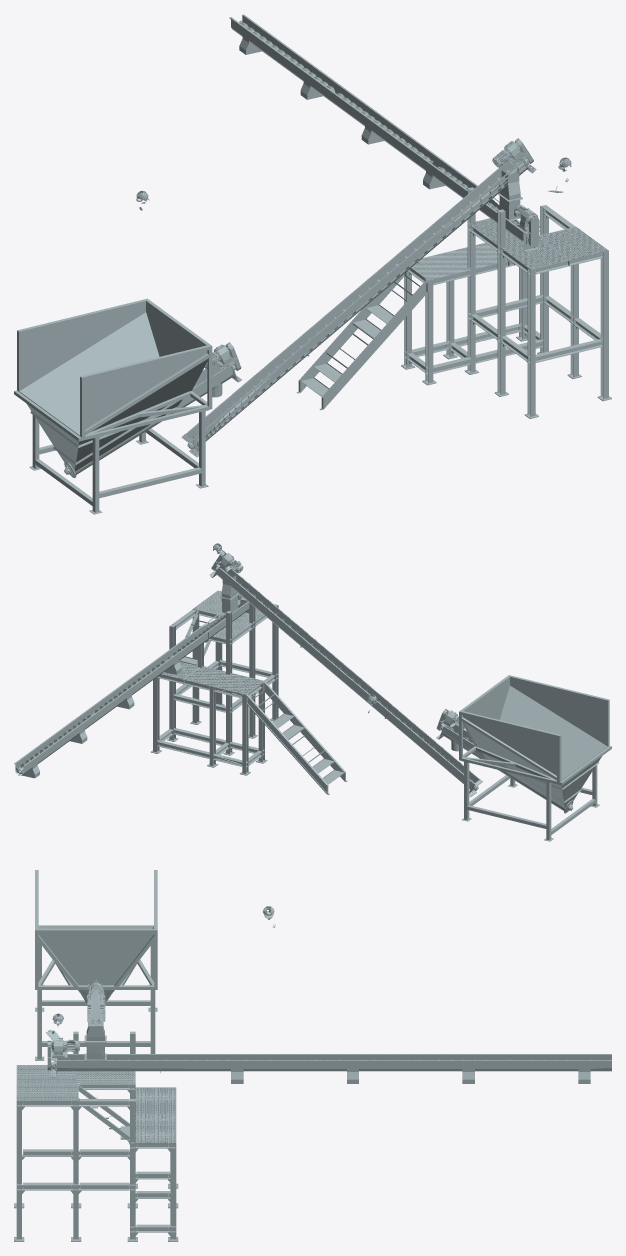
Rendered from shared_platform_piping_candidate.glb.
3 renders of one model, top to bottom at view 1: azimuth 30°, elevation 25°; view 2: azimuth 150°, elevation 25°; view 3: azimuth 270°, elevation 25°, orthographic. The views are drawn at different scales.
Parts seen in each view (by area): view 1: world; view 2: world; view 3: world.
Boxes of the visible parts, x1,y1,x2,y2 form: world: (14,14,611,514); world: (14,543,611,841); world: (14,870,611,1241).
Bounding box in the file's own units: 12.33 × 5.45 × 12.92.
